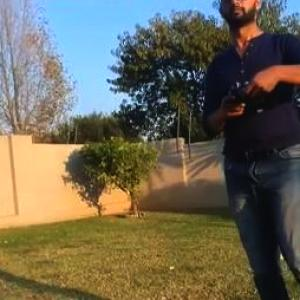follow: (197, 0, 300, 299)
